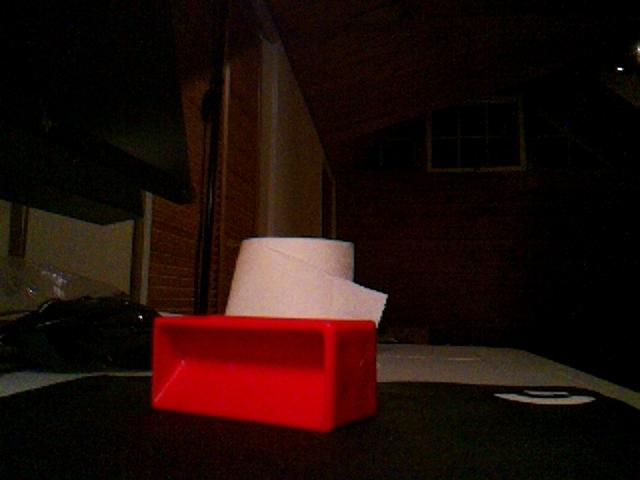red: (150, 313, 379, 434)
